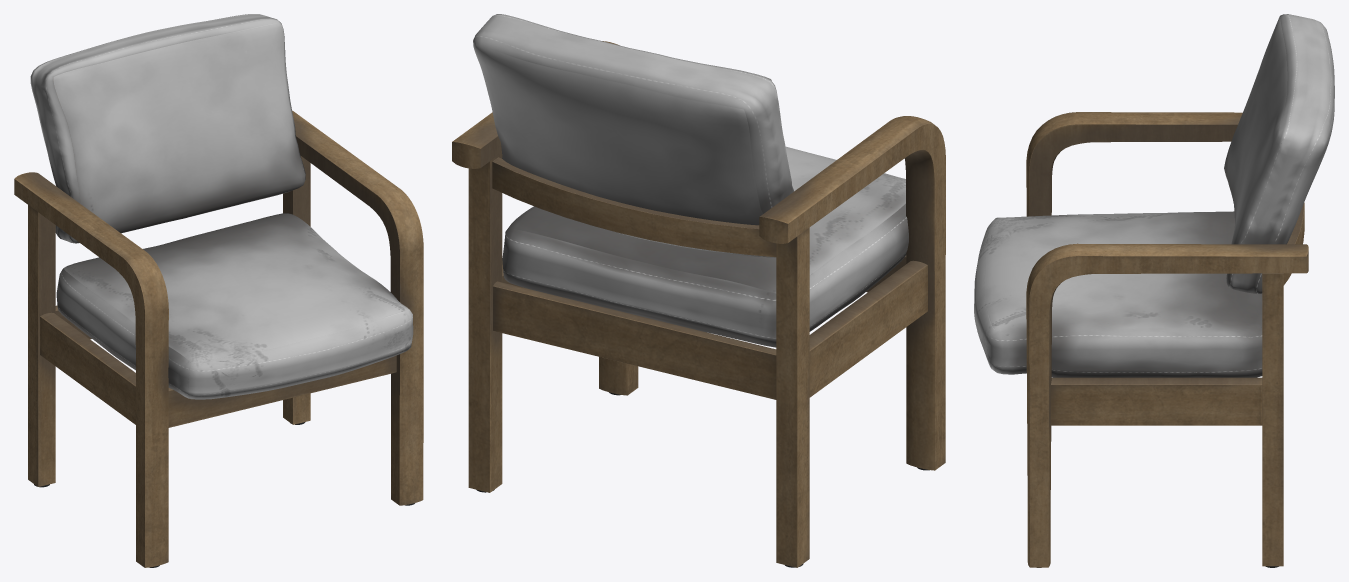
Rendered from worn_mid-century_modern_chair_-_4096px2.glb.
3 renders of one model, left to right at view 1: azimuth 30°, elevation 25°; view 2: azimuth 150°, elevation 25°; view 3: azimuth 270°, elevation 25°, orthographic. The views are drawn at different scales.
Parts seen in each view (by area): view 1: Asylum_WaitingRoom_Chair; view 2: Asylum_WaitingRoom_Chair; view 3: Asylum_WaitingRoom_Chair.
Boxes of the visible parts, x1=… form: Asylum_WaitingRoom_Chair: x1=14, y1=14, x2=423, y2=567; Asylum_WaitingRoom_Chair: x1=452, y1=14, x2=945, y2=567; Asylum_WaitingRoom_Chair: x1=974, y1=14, x2=1334, y2=567.
Bounding box in the file's own units: 0.634 × 0.8826 × 0.6712.
1 material, 1 textured.
